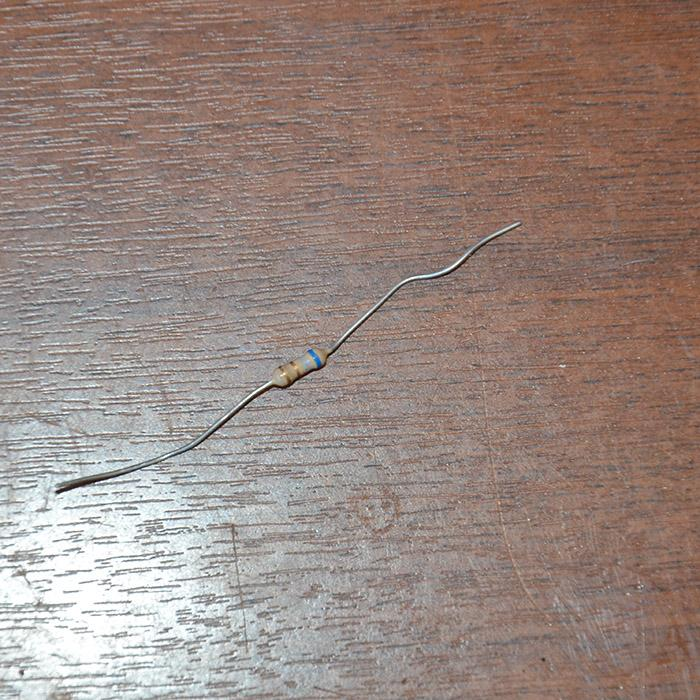resistor: (271, 346, 329, 388)
